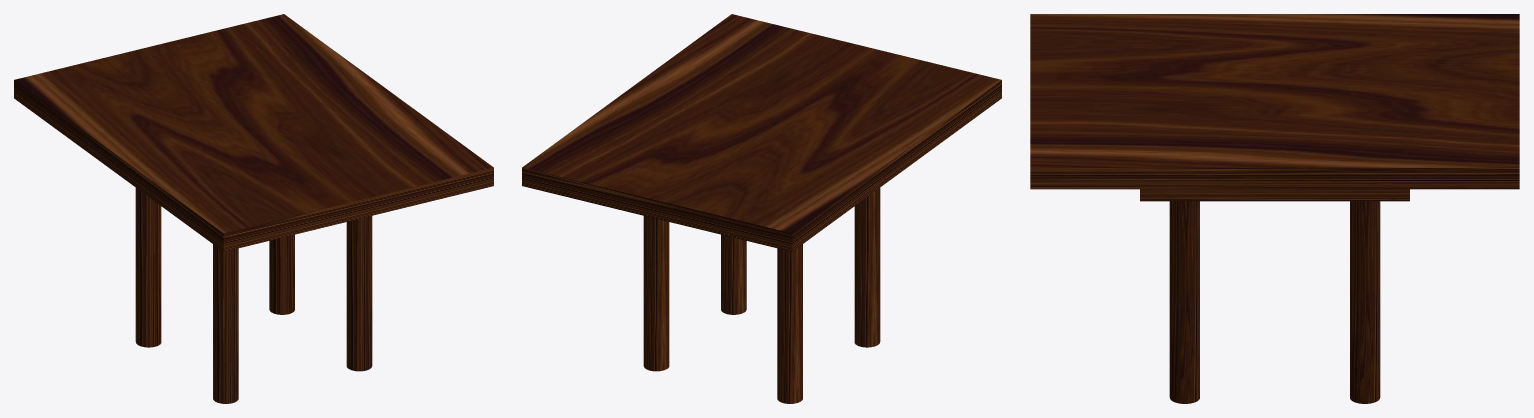
The model's file is Stol.fbx.
The picture shows the model from 3 angles, left to right: view 1: azimuth 30°, elevation 25°; view 2: azimuth 150°, elevation 25°; view 3: azimuth 270°, elevation 25°; orthographic projection. The views are drawn at different scales.
Parts seen in each view (by area): view 1: Cylinder.004; view 2: Cylinder.004; view 3: Cylinder.004.
Part boxes in pixels (bbox=[...]): Cylinder.004: bbox=[14, 14, 493, 403]; Cylinder.004: bbox=[522, 14, 1001, 403]; Cylinder.004: bbox=[1030, 14, 1519, 403].
Bounding box in the file's own units: 404 × 329 × 544.
